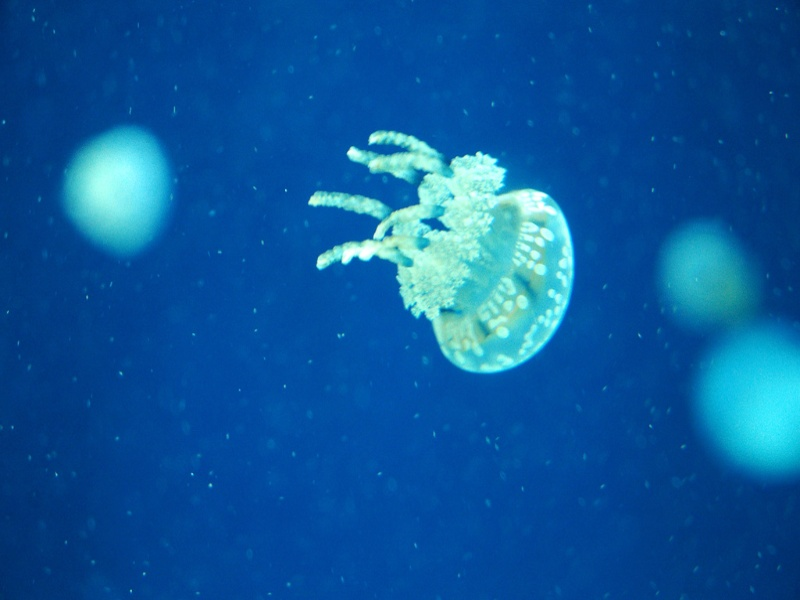Jellyfish: (315, 134, 581, 366)
